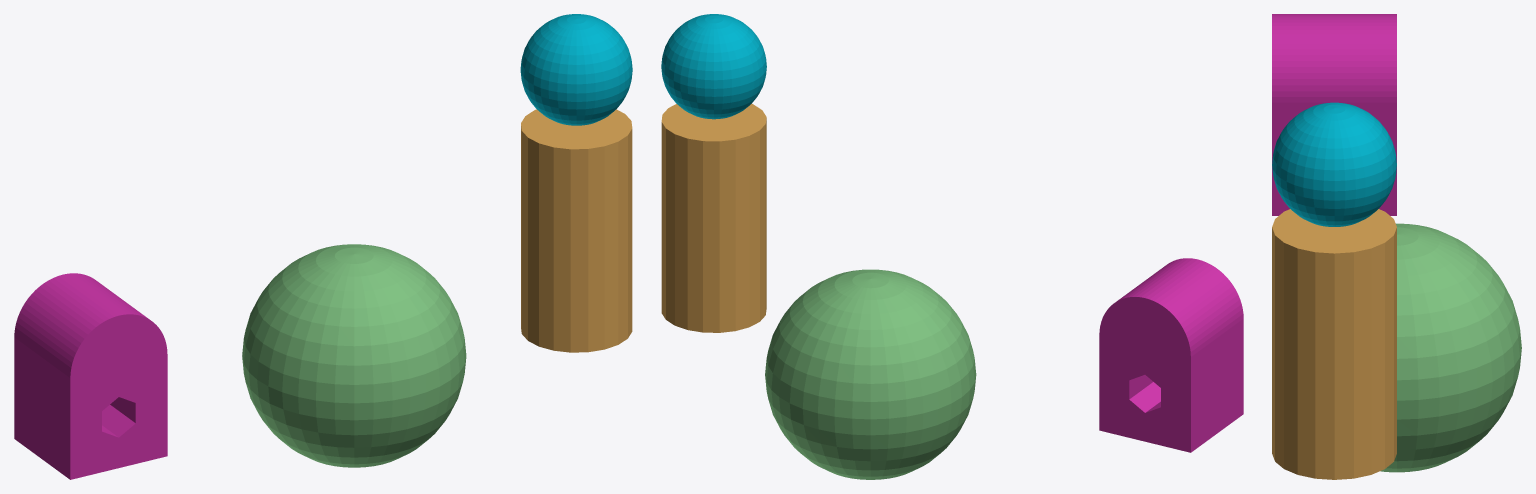
Rendered from AAA01.glb.
3 views of the same model, side by side, from view 1: azimuth 30°, elevation 25°; view 2: azimuth 150°, elevation 25°; view 3: azimuth 270°, elevation 25° (orthographic). The views are drawn at different scales.
Parts seen in each view (by area): view 1: Mesh_Mesh_head_geo.001_lambert2SG.001; view 2: Mesh_Mesh_head_geo.001_lambert2SG.001; view 3: Mesh_Mesh_head_geo.001_lambert2SG.001.
Boxes of the visible parts, x1,y1,x2,y2 form: Mesh_Mesh_head_geo.001_lambert2SG.001: (14,14,632,479); Mesh_Mesh_head_geo.001_lambert2SG.001: (661,14,1243,479); Mesh_Mesh_head_geo.001_lambert2SG.001: (1272,14,1521,479).
Size of the model in its own units: 0.12 by 0.081 by 0.04.
